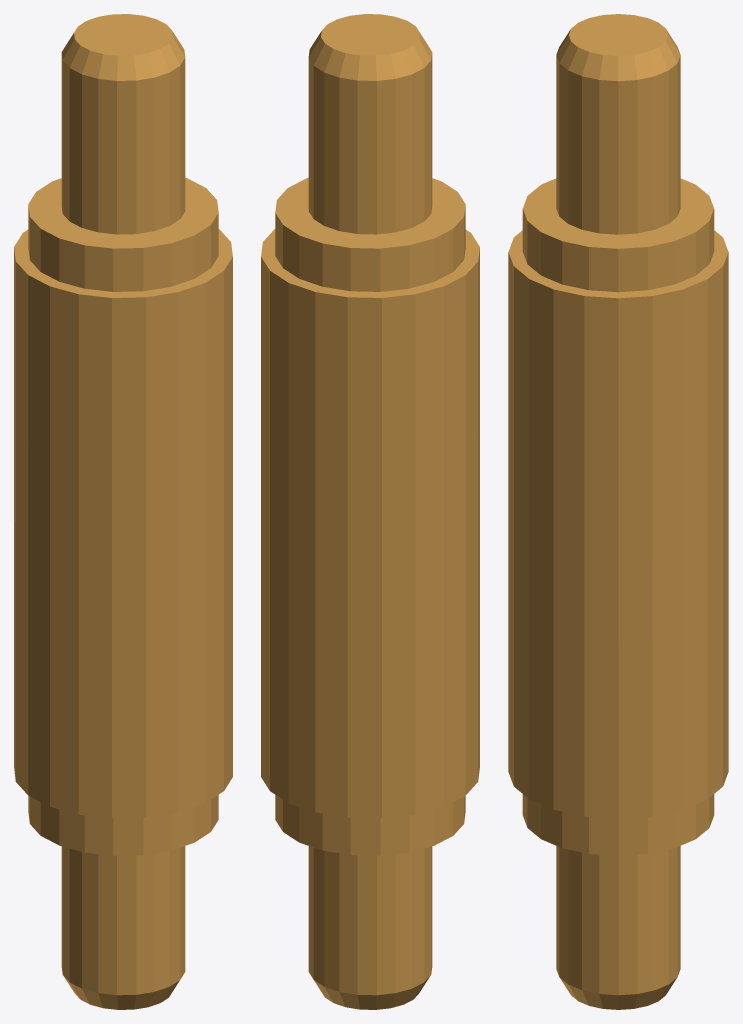
File: shaft.glb
3 views of the same model, side by side, from view 1: azimuth 30°, elevation 25°; view 2: azimuth 150°, elevation 25°; view 3: azimuth 270°, elevation 25° (orthographic).
Parts seen in each view (by area): view 1: Mesh_Mesh_head_geo.001_lambert2SG.001; view 2: Mesh_Mesh_head_geo.001_lambert2SG.001; view 3: Mesh_Mesh_head_geo.001_lambert2SG.001.
Part boxes in pixels (x1,y1,x2,y2): Mesh_Mesh_head_geo.001_lambert2SG.001: (14, 14, 232, 1009); Mesh_Mesh_head_geo.001_lambert2SG.001: (261, 14, 479, 1009); Mesh_Mesh_head_geo.001_lambert2SG.001: (508, 14, 728, 1009).
Bounding box in the file's own units: 23 × 110 × 23.
